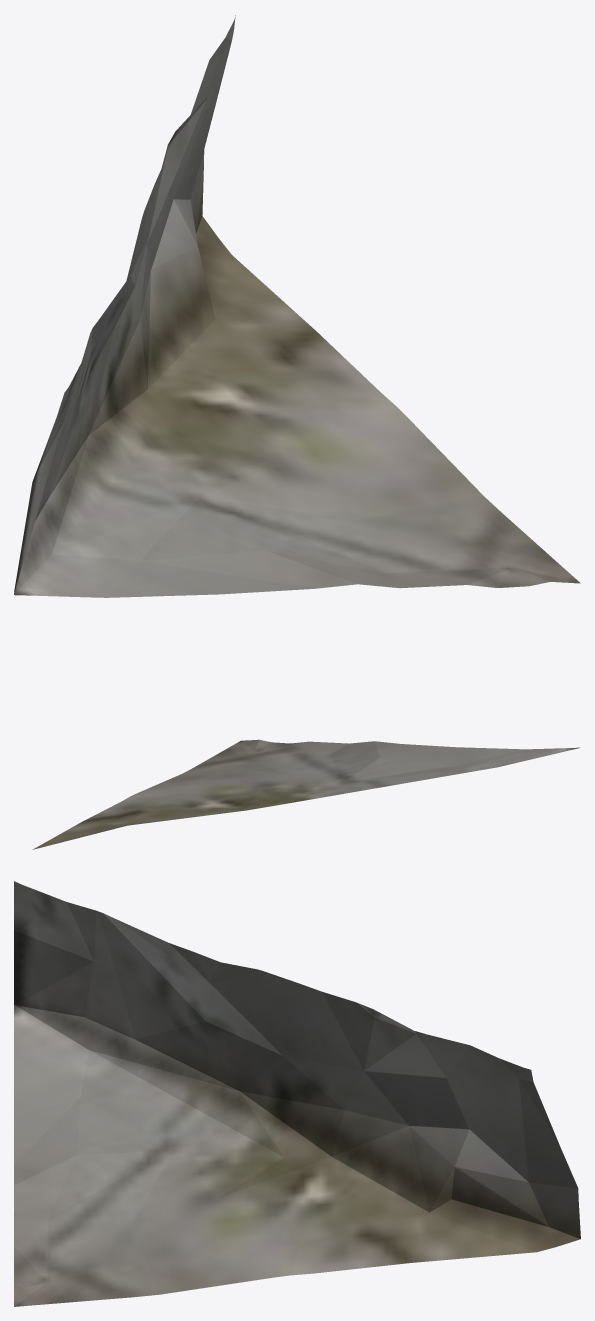
3 renders of one model, top to bottom at view 1: azimuth 30°, elevation 25°; view 2: azimuth 150°, elevation 25°; view 3: azimuth 270°, elevation 25°, orthographic. The views are drawn at different scales.
Size of the model in its own units: 0.362 by 0.1932 by 0.4186.
1 material, 1 textured.
